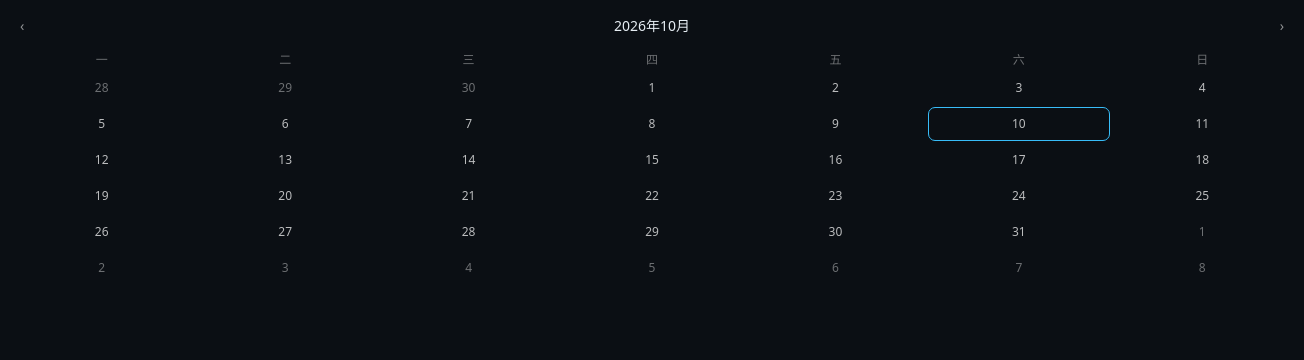
Test: ⚠️ 空的那一天不显示催促文案（那是假话）
Expected: the text "2026年10月" is shown, [614,16,690,36]
Click the button named "10 月 13 日".
click(285, 160)  # box [195,144,375,176]
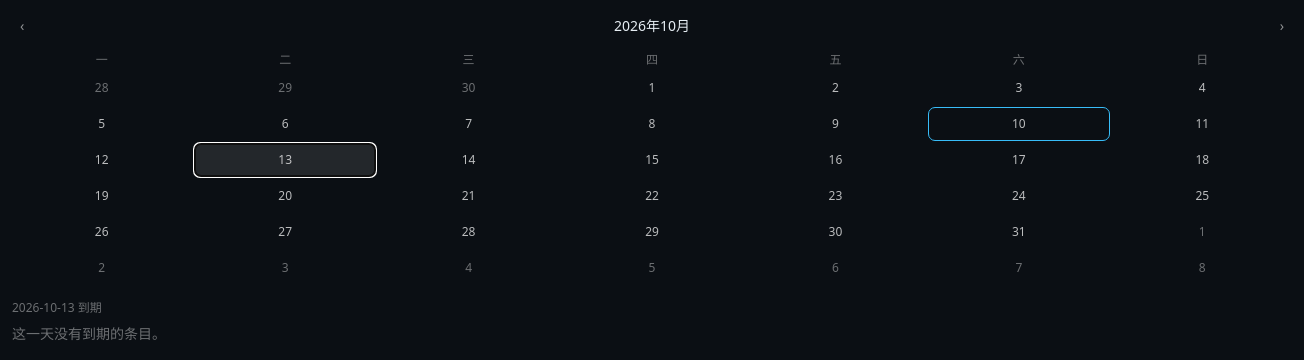
Now the text "这一天没有到期的条目。" is shown, box [12,324,166,343]
